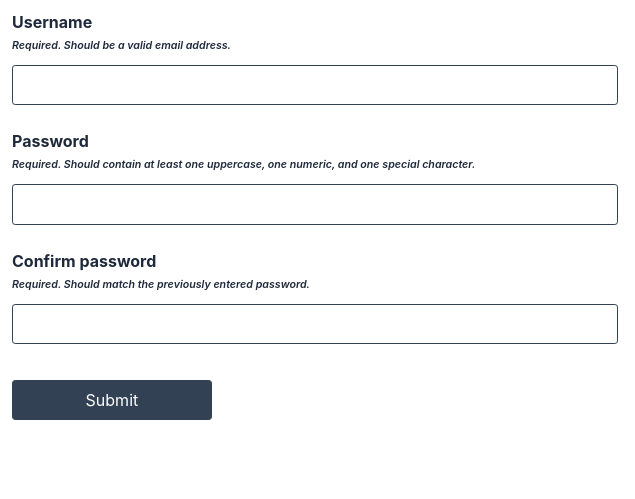
Test case: informs user of valid form submission
The image size is (635, 499).
Type "test@test.com" into the field labelled "Username".
click(315, 85); type("test@test.com")  # box [12,65,618,105]
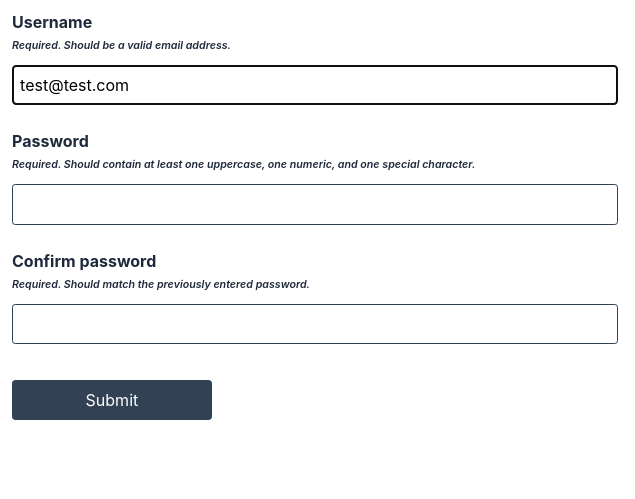
Type "Q1!" into the password field labelled "Password".
click(315, 204); type("Q1!")  # box [12,184,618,225]
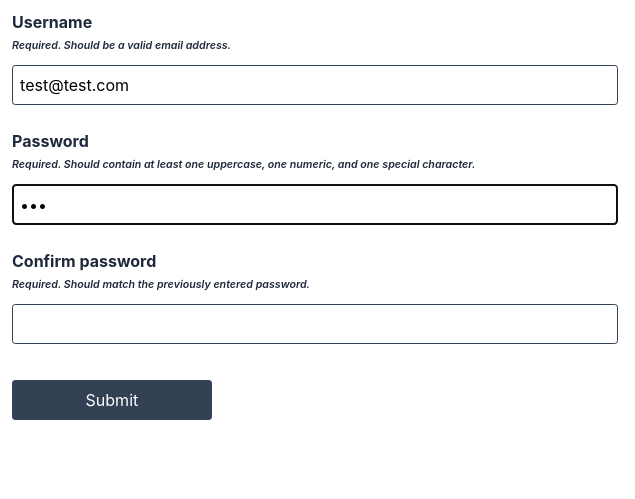
Type "Q1!" into the password field labelled "Confirm password".
click(315, 324); type("Q1!")  # box [12,304,618,344]
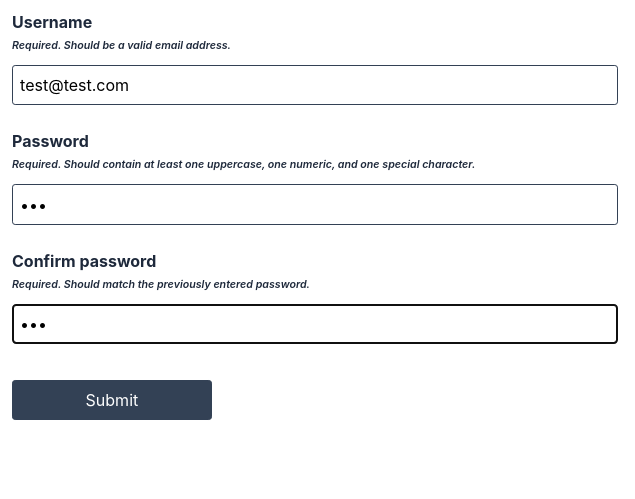
Click the button "Submit".
click(112, 400)  # box [12,380,212,420]
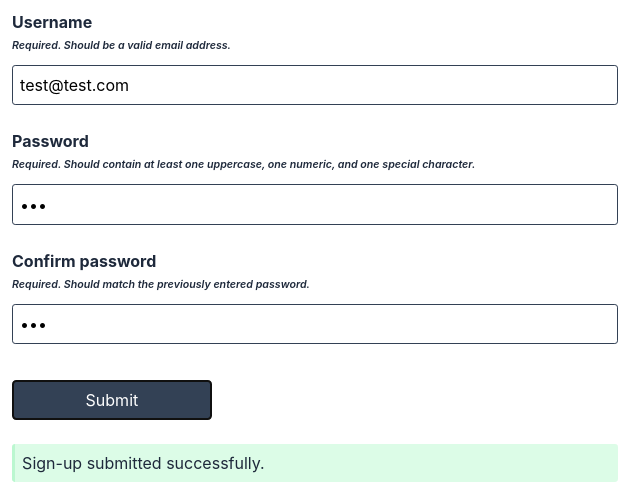
Check: the text "Sign-up submitted successfully." is shown, box [12,444,618,482]
